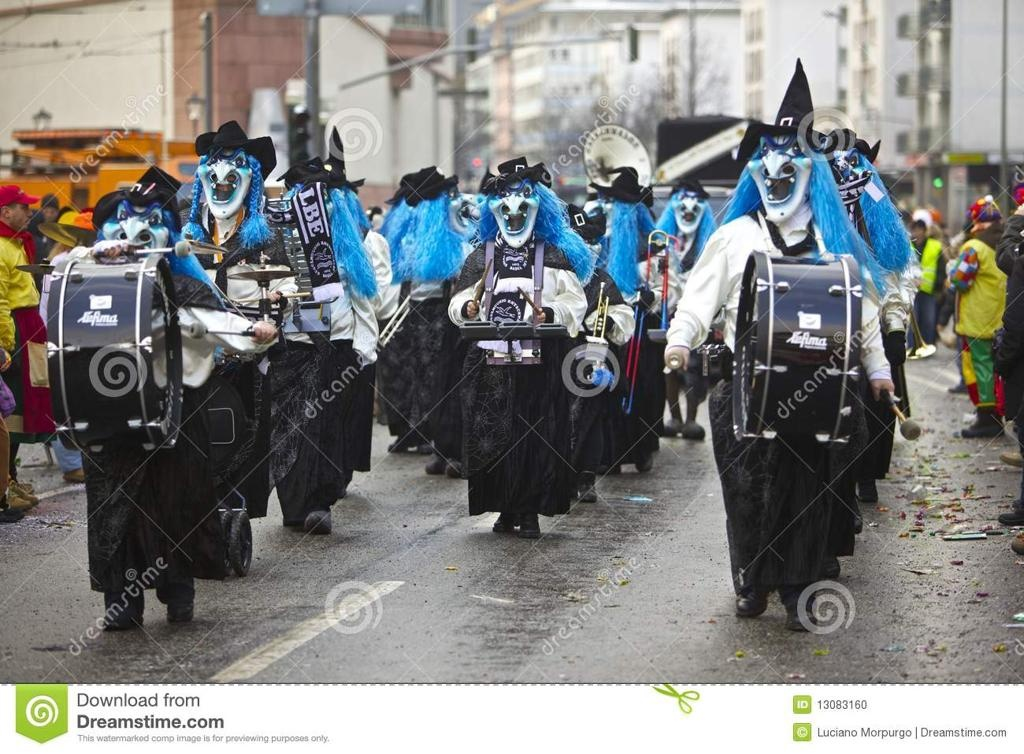human_face: (6, 200, 30, 227), (42, 202, 56, 220), (911, 228, 923, 244)
